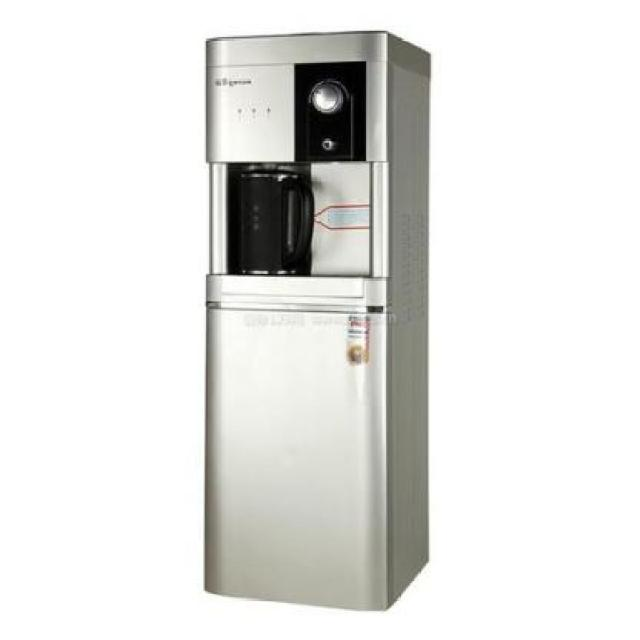cooler: (202, 23, 436, 615)
